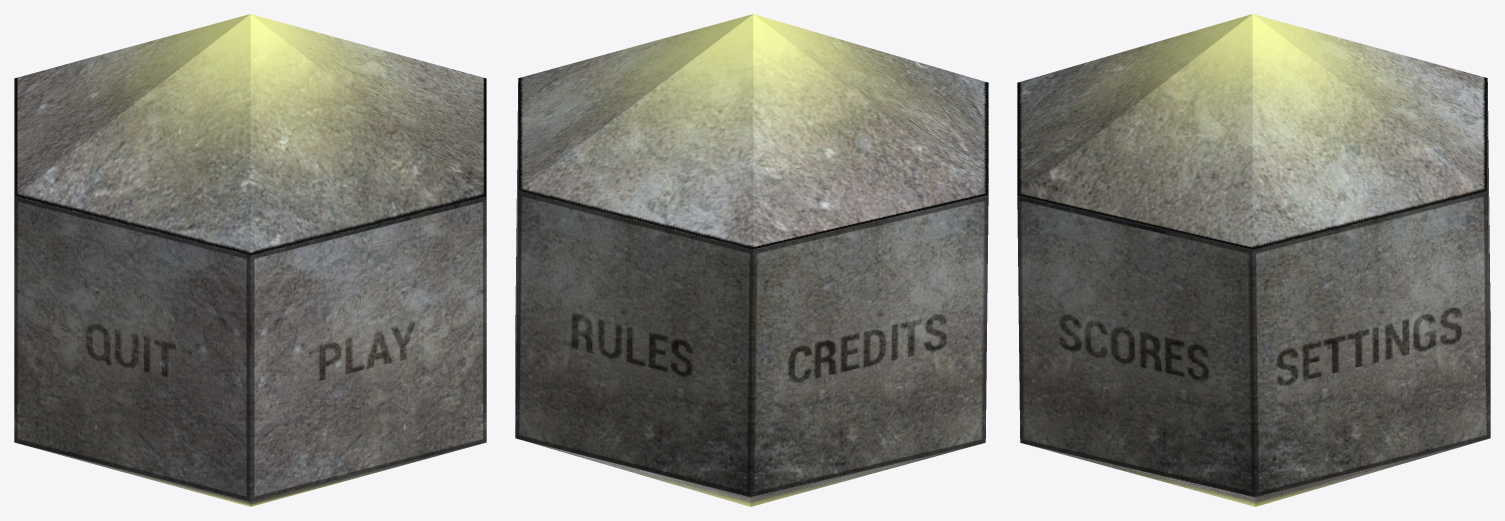
The model's file is frontmenu.obj.
3 renders of one model, left to right at view 1: azimuth 30°, elevation 25°; view 2: azimuth 150°, elevation 25°; view 3: azimuth 270°, elevation 25°, orthographic.
Parts seen in each view (by area): view 1: Circle_Circle.001; view 2: Circle_Circle.001; view 3: Circle_Circle.001.
Part boxes in pixels (x1,y1,x2,y2): Circle_Circle.001: (14, 14, 486, 506); Circle_Circle.001: (515, 14, 988, 506); Circle_Circle.001: (1017, 14, 1490, 506).
Size of the model in its own units: 2.01 by 2 by 1.74.
